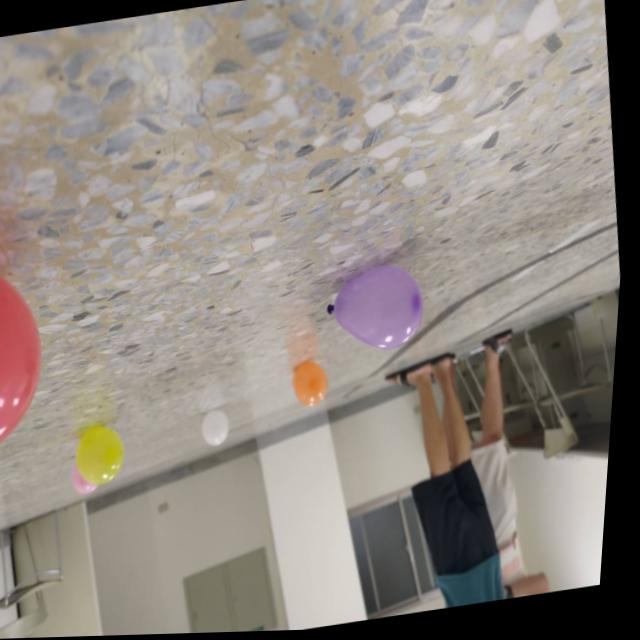other: (325, 264, 434, 362), (78, 423, 134, 488), (293, 362, 338, 414), (204, 408, 238, 451), (75, 460, 108, 498)
red: (0, 251, 64, 458)
